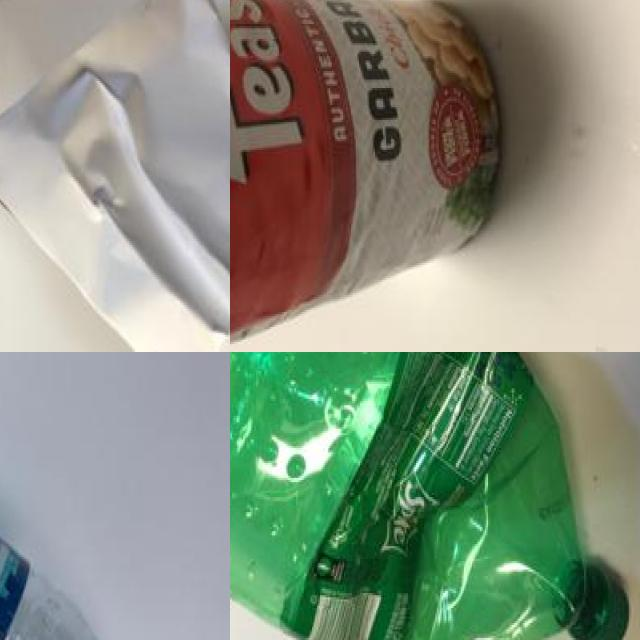paper: (0, 0, 230, 352)
plastic: (230, 352, 639, 640), (230, 0, 520, 352), (0, 352, 211, 640)
